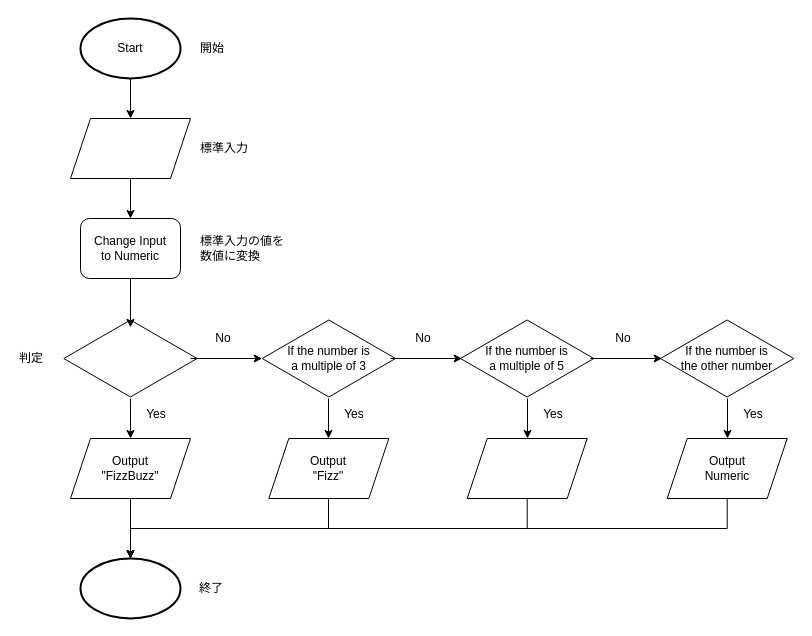
The diagram is 812 pixels wide and 636 high, and some of its shapes have lost their labels. Here are the shapes that lost their labels. From the top down, the centre of each, then its label:
point 130,148: Stdin
point 130,358: If the number is a multiple of 15
point 526,468: Output "Buzz"
point 130,588: End
